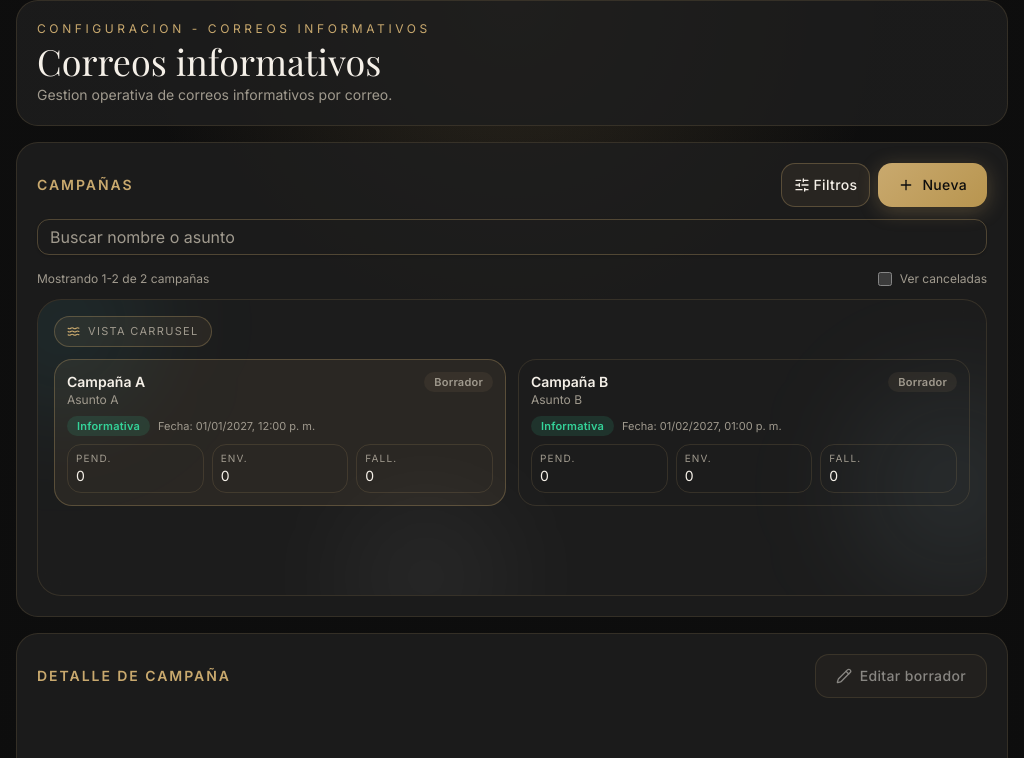
it: eligibility A tardio no se mezcla con B
Step 1. Click the button "Campaña B" → [744, 432], box [518,358,970,506]
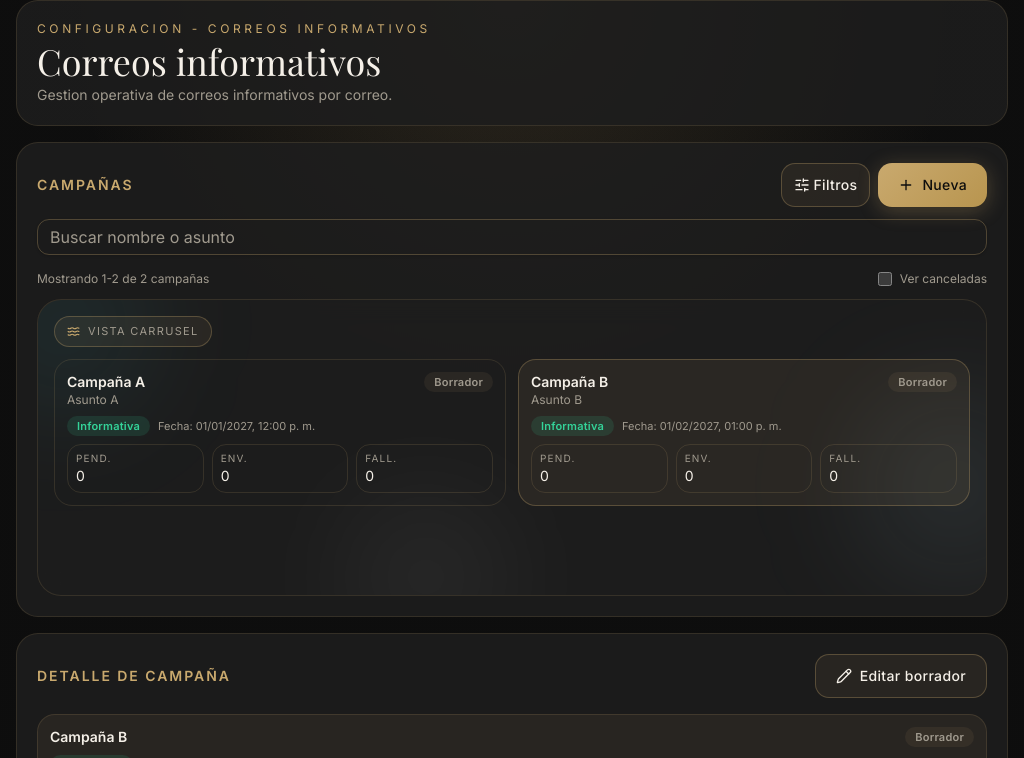
Now the text "Campaña B" below "Detalle de campaña" is shown, box [50,728,127,745]
